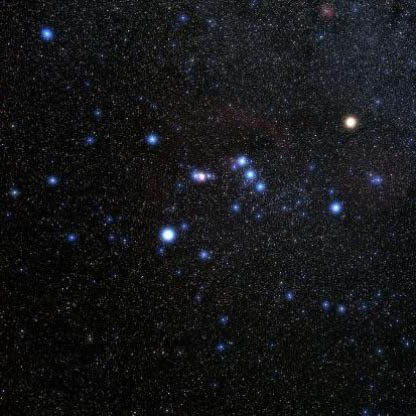Orion: (323, 195, 353, 228), (139, 125, 167, 152), (151, 224, 181, 249), (340, 111, 367, 138), (239, 167, 261, 184), (252, 183, 274, 198), (231, 150, 250, 164)
